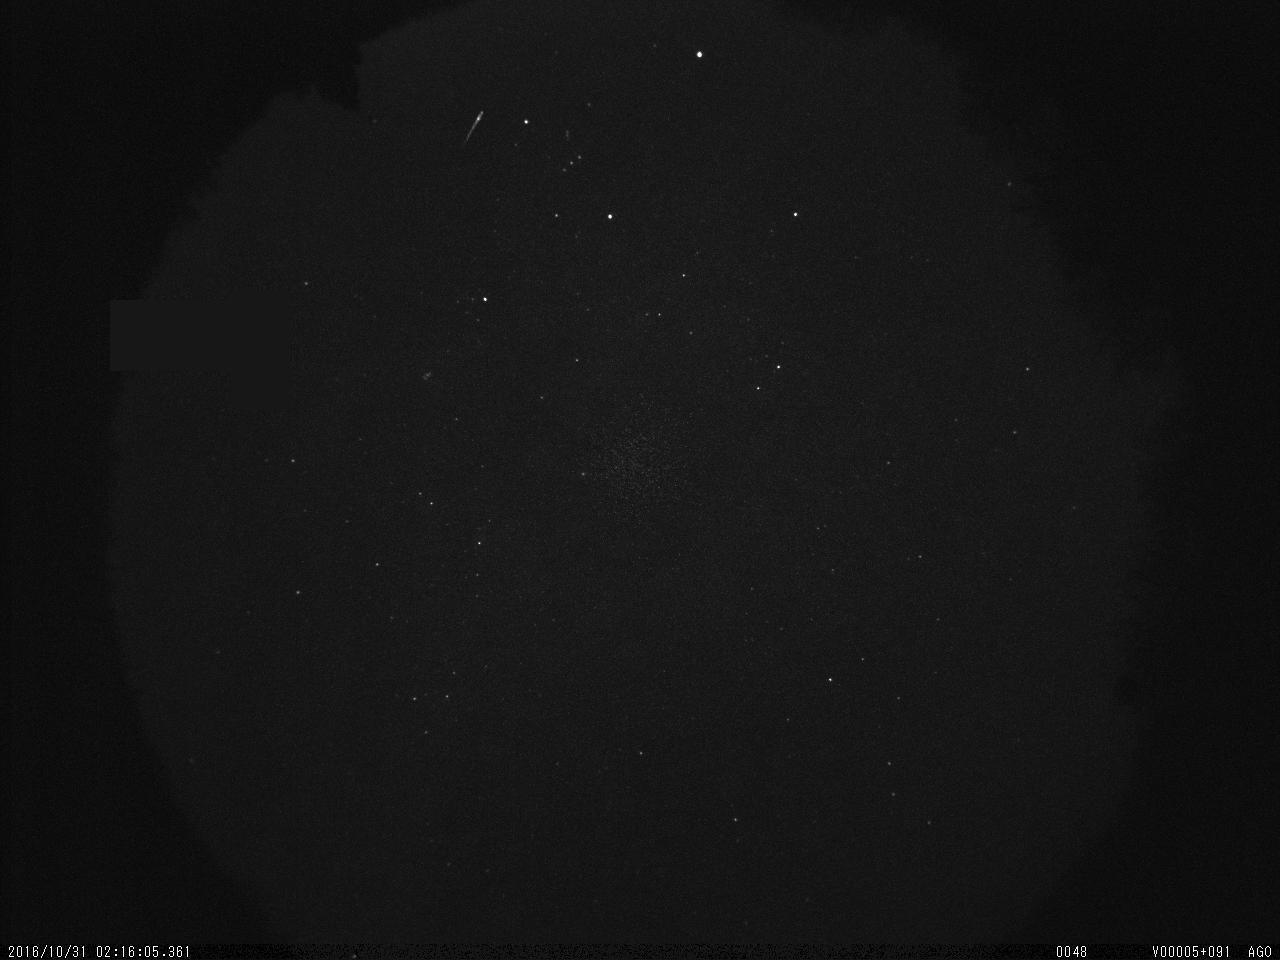meteor: (415, 88, 556, 157)
